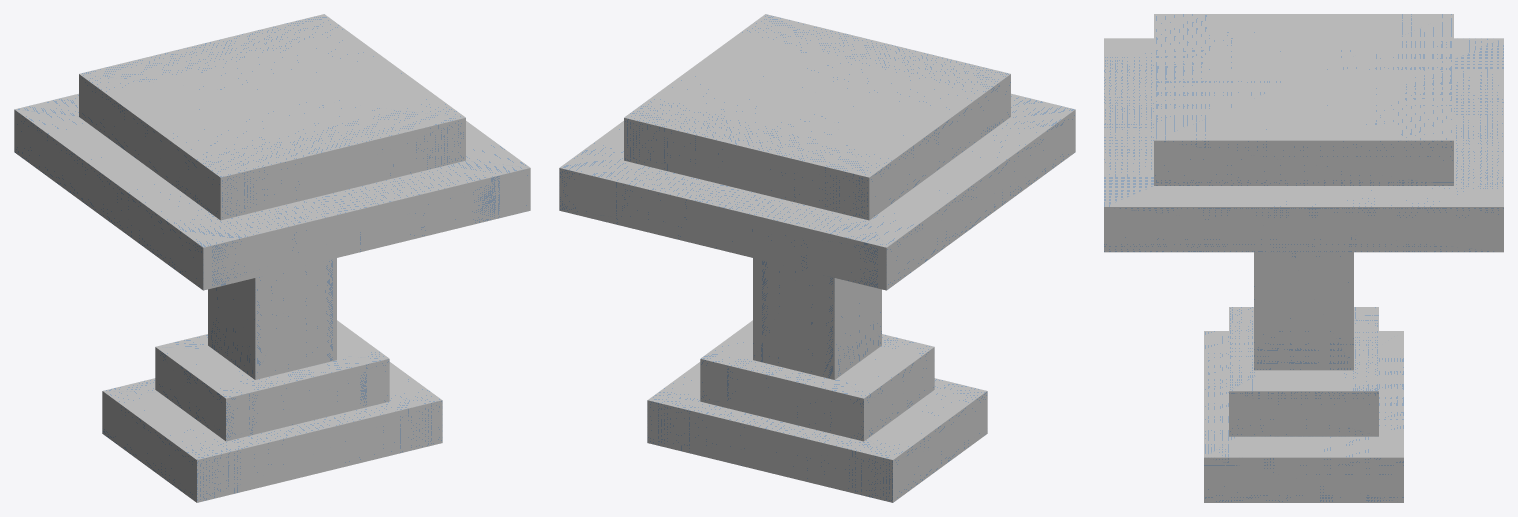
File: stone-table.fbx
3 views of the same model, side by side, from view 1: azimuth 30°, elevation 25°; view 2: azimuth 150°, elevation 25°; view 3: azimuth 270°, elevation 25° (orthographic). The views are drawn at different scales.
Visible parts, largest first — view 1: generated; view 2: generated; view 3: generated.
Part boxes in pixels (x1=…): generated: x1=14, y1=14, x2=530, y2=502; generated: x1=559, y1=14, x2=1075, y2=502; generated: x1=1104, y1=14, x2=1503, y2=502.
Size of the model in its own units: 80 by 80 by 80.
1 material, 1 textured.
